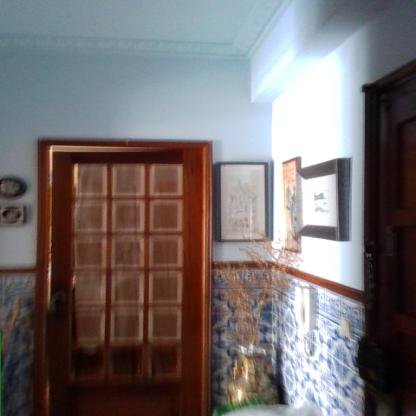closed: (31, 136, 232, 410)
